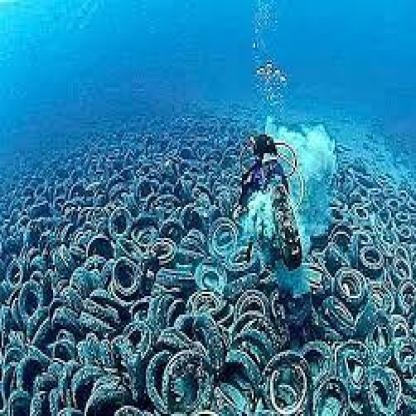tire: (151, 354, 222, 416), (255, 354, 310, 416), (204, 220, 253, 282), (8, 277, 55, 327), (317, 292, 358, 341), (152, 232, 189, 277), (104, 203, 141, 244), (114, 259, 138, 292)
